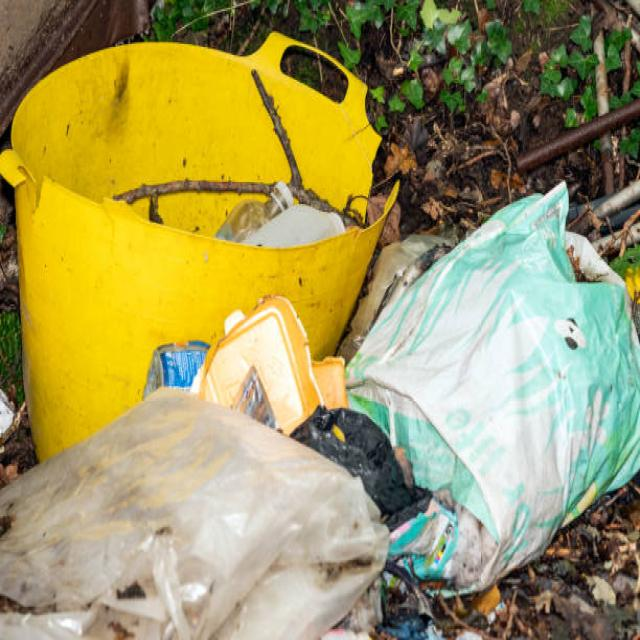trash: (355, 190, 621, 574)
